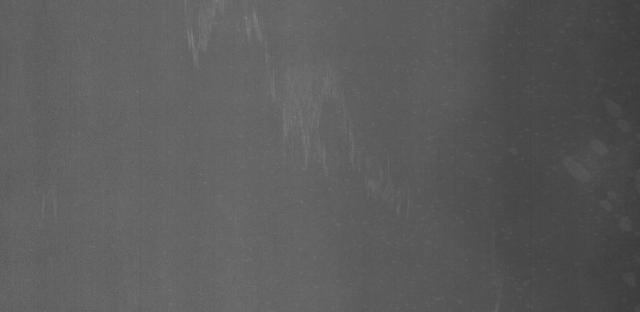oil_spot: (555, 144, 604, 194)
silk_spot: (175, 10, 383, 172)
